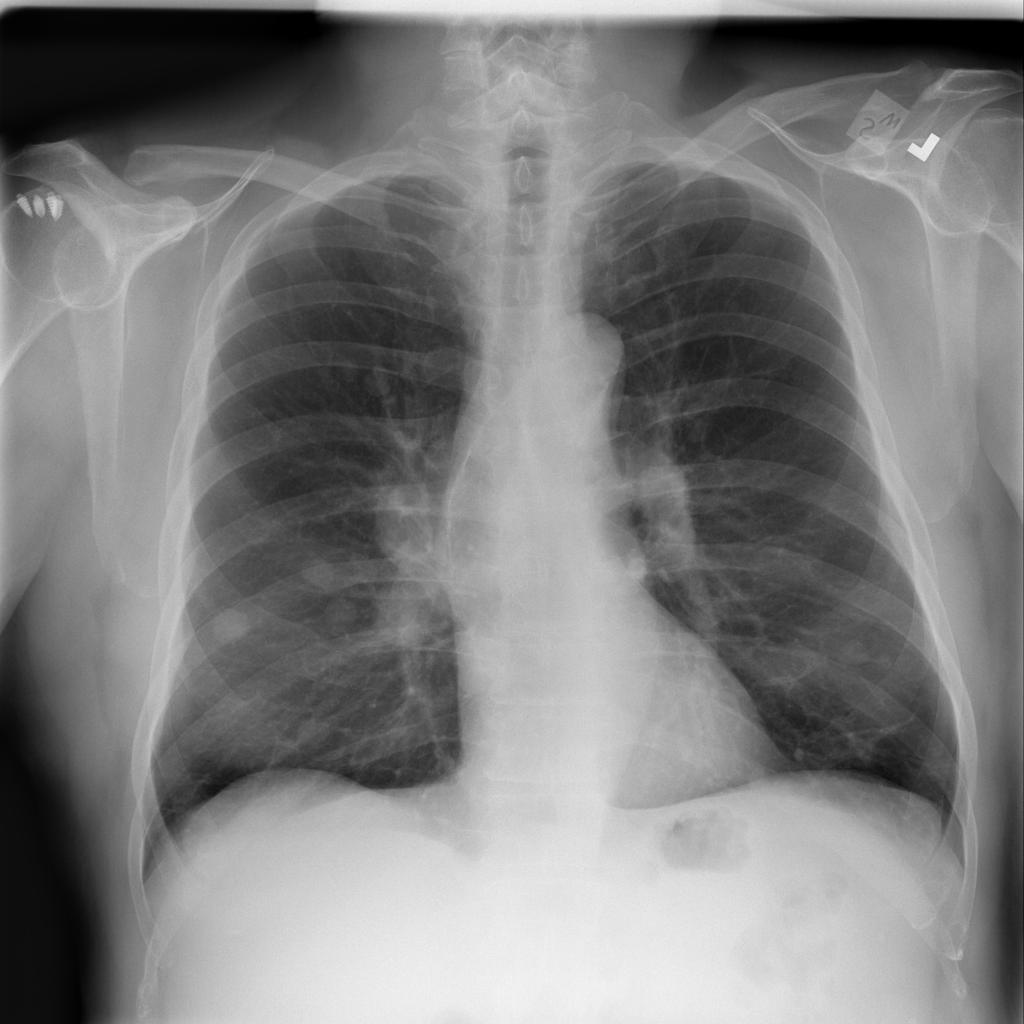nodule: (301, 576, 374, 641), (203, 601, 261, 648), (823, 625, 883, 670), (291, 547, 347, 595), (284, 711, 343, 756), (353, 356, 404, 405)
